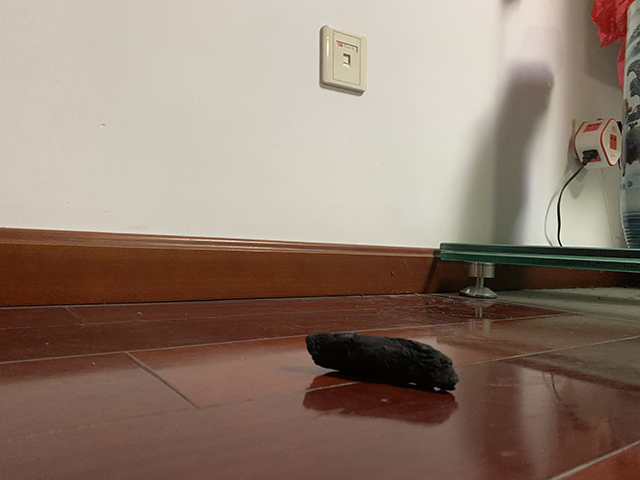feces: (306, 330, 460, 393)
